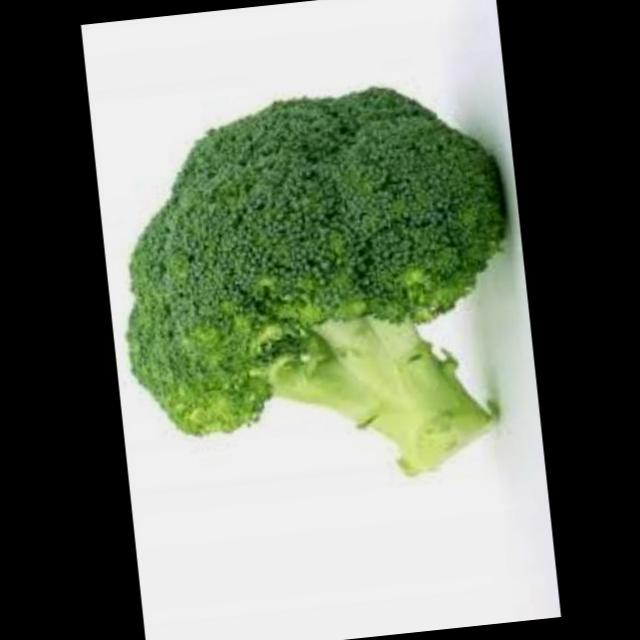Broccoli: (88, 62, 532, 518)
